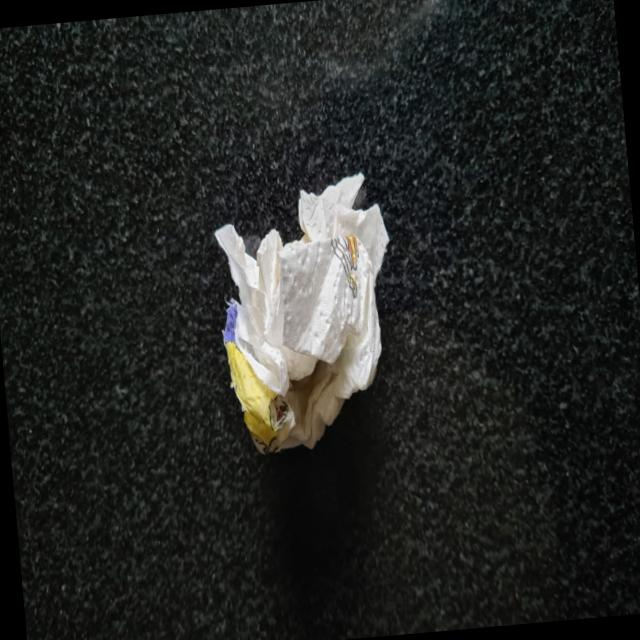organic waste: (208, 166, 408, 465)
